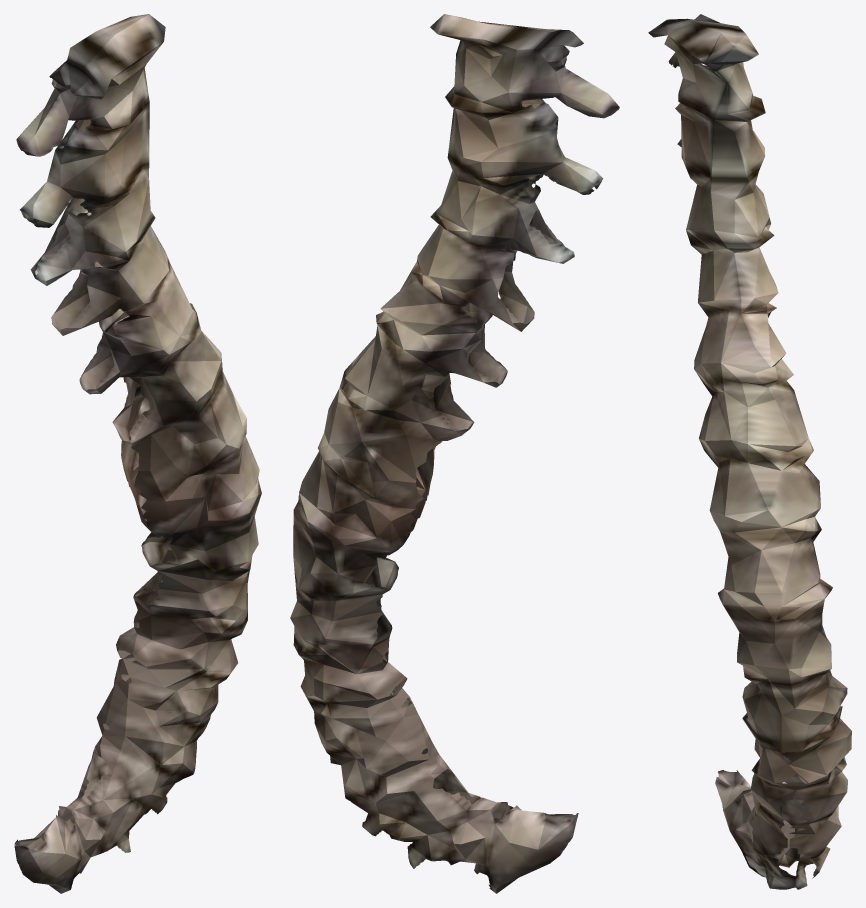
File: bonetail-lite.glb
3 views of the same model, side by side, from view 1: azimuth 30°, elevation 25°; view 2: azimuth 150°, elevation 25°; view 3: azimuth 270°, elevation 25° (orthographic). The views are drawn at different scales.
Visible parts, largest first — view 1: geometry_0; view 2: geometry_0; view 3: geometry_0.
Boxes of the visible parts, x1,y1,x2,y2 form: geometry_0: [14, 14, 261, 893]; geometry_0: [290, 14, 619, 893]; geometry_0: [648, 14, 851, 889].
Size of the model in its own units: 0.3265 by 0.9655 by 0.2061.
1 material, 1 textured.
